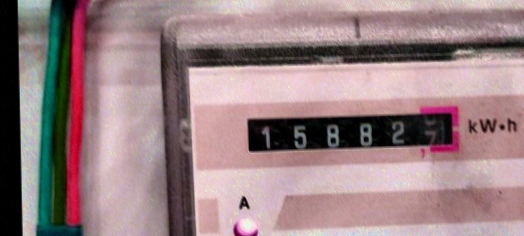1: (258, 121, 273, 150)
2: (389, 118, 406, 146)
5: (290, 122, 309, 149)
7: (422, 127, 438, 144)
8: (323, 121, 340, 149), (357, 119, 373, 148)
screen: (233, 97, 469, 164)
